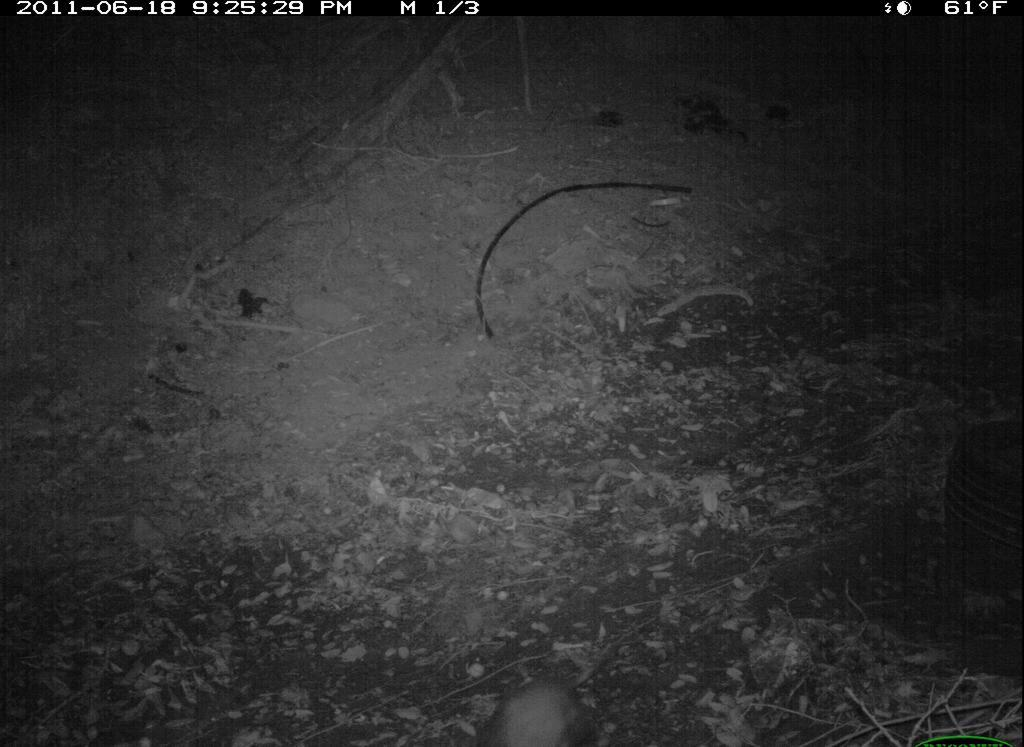opossum: (472, 669, 611, 747)
